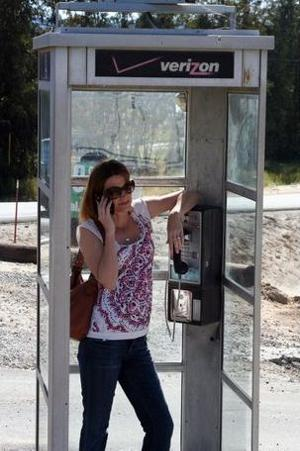person: (77, 160, 201, 451)
